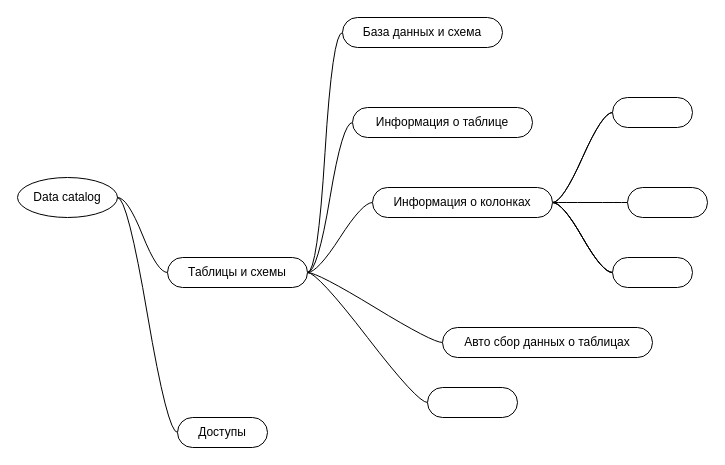
This 725x465 diagram has some shape labels left out. Here are the shapes that lost their labels. From the top down, the centre of each, then its label:
[652,112]: Партиции
[667,202]: Alias'ы
[652,272]: Индексы
[472,402]: Джойны
